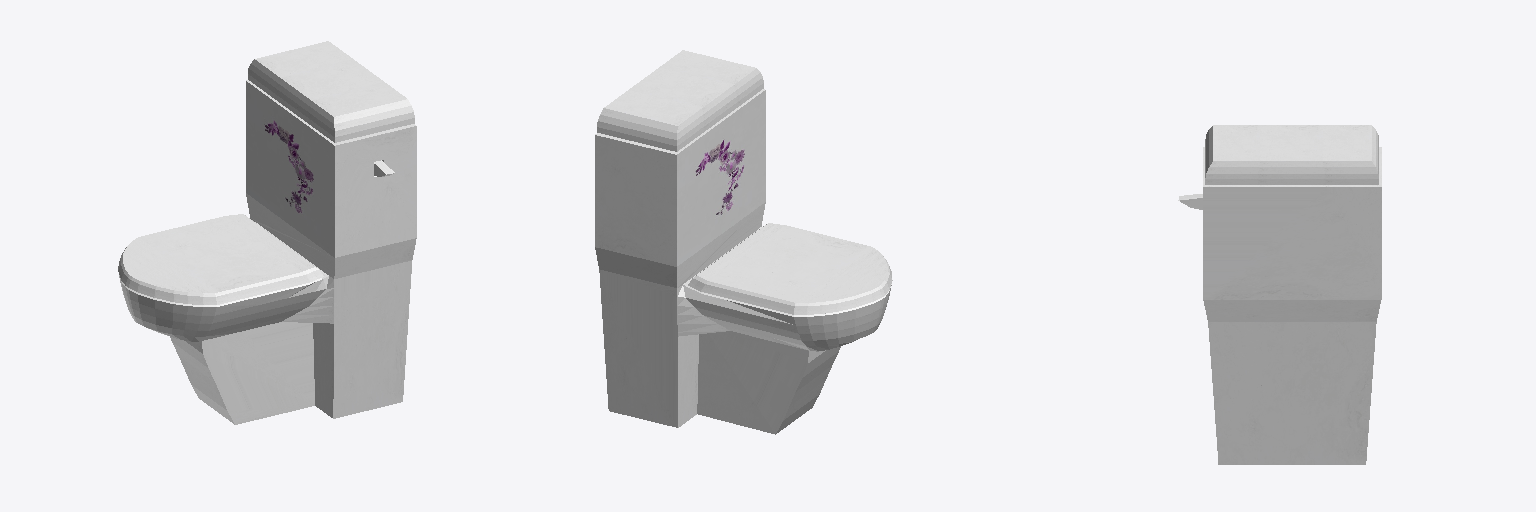
3 views of the same model, side by side, from view 1: azimuth 30°, elevation 25°; view 2: azimuth 150°, elevation 25°; view 3: azimuth 270°, elevation 25° (orthographic).
Visible parts, largest first — view 1: Cube.008; view 2: Cube.008; view 3: Cube.008.
Boxes of the visible parts, <box> form: Cube.008: <box>118,41,416,424</box>; Cube.008: <box>595,50,892,434</box>; Cube.008: <box>1178,125,1381,464</box>.
Bounding box in the file's own units: 1.4 × 1.67 × 1.
1 materials, 1 textured.